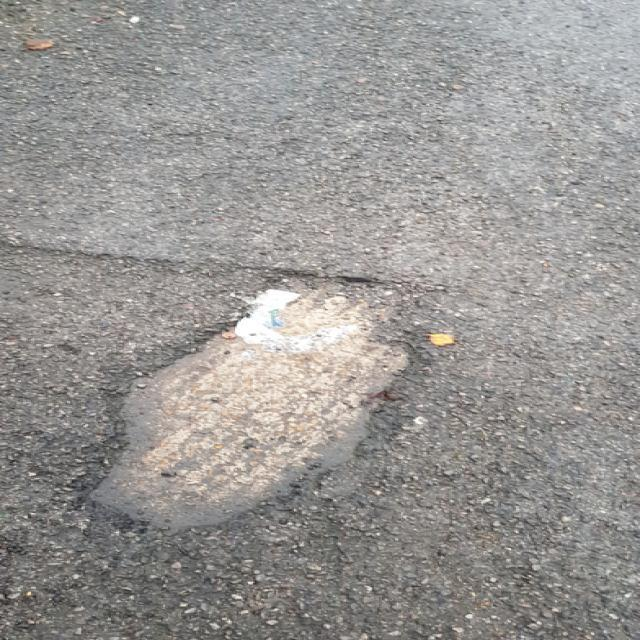pothole: (63, 262, 424, 534)
